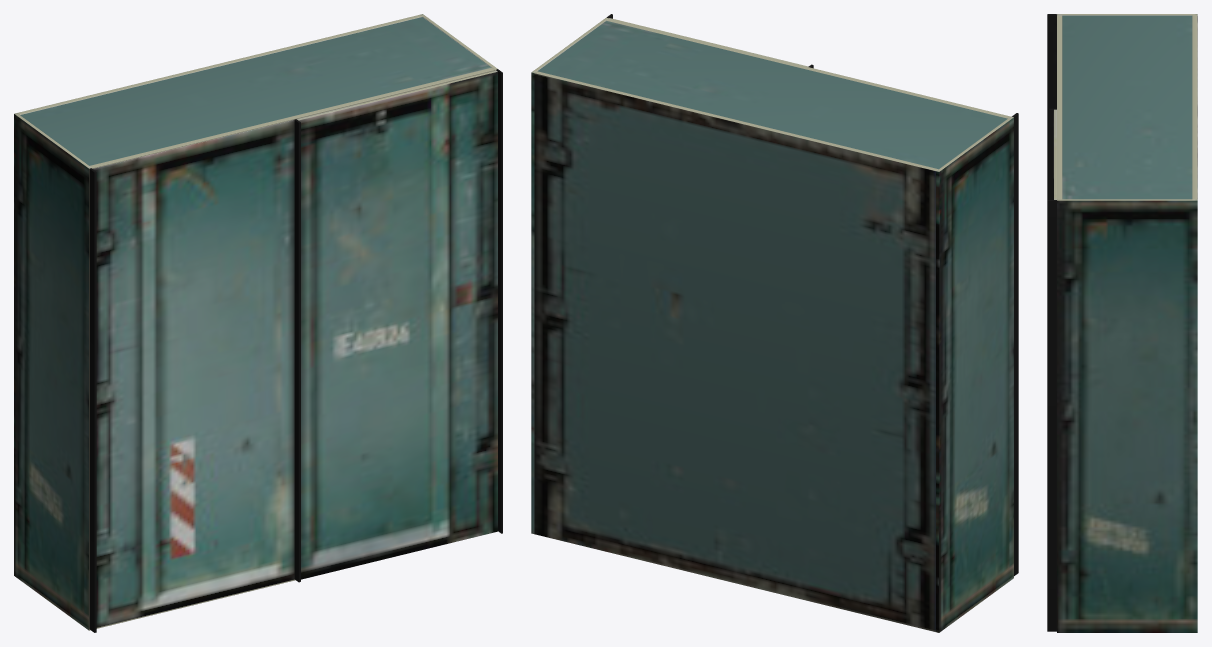
The model's file is B075GSLVV7.glb.
The picture shows the model from 3 angles, left to right: view 1: azimuth 30°, elevation 25°; view 2: azimuth 150°, elevation 25°; view 3: azimuth 270°, elevation 25°; orthographic projection. The views are drawn at different scales.
Visible parts, largest first — view 1: B079Z6SZMT; view 2: B079Z6SZMT; view 3: B079Z6SZMT.
Boxes of the visible parts, x1,y1,x2,y2 form: B079Z6SZMT: (14,14,502,632); B079Z6SZMT: (531,14,1018,632); B079Z6SZMT: (1047,14,1197,632).
Bounding box in the file's own units: 2 × 2.16 × 0.68.
1 material, 1 textured.
